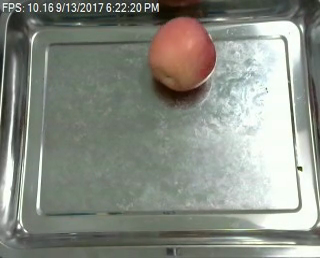Apple: (148, 16, 217, 93)
